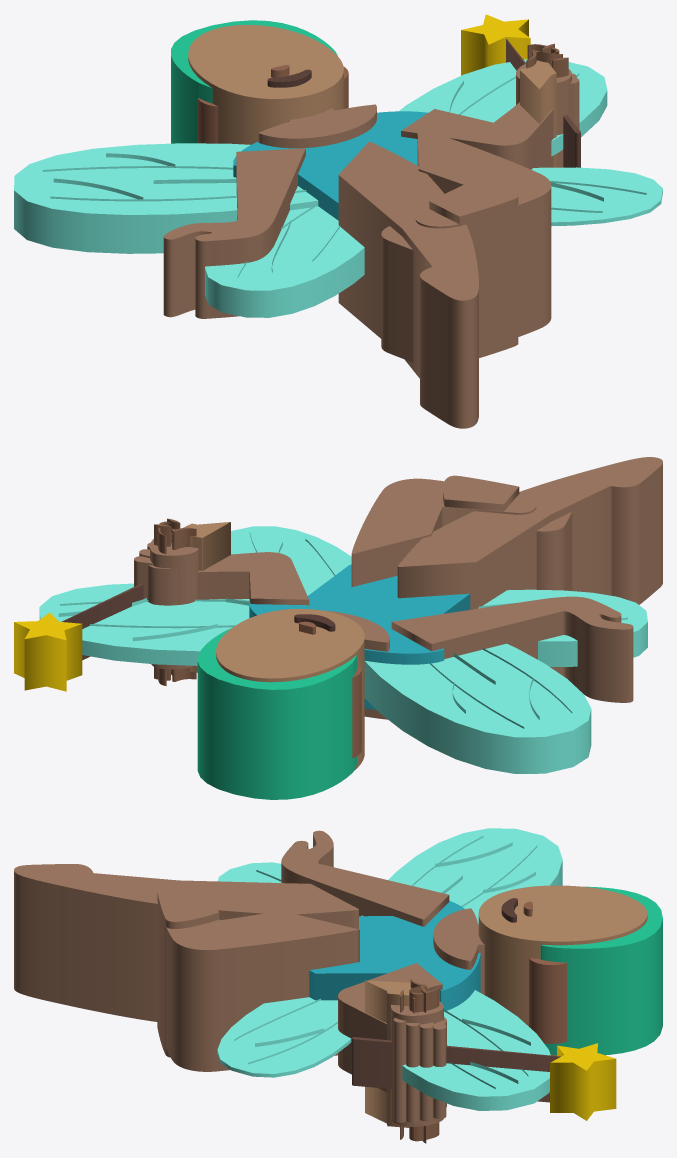
Rendered from emoji_u1f9da_1f3fd_200d_2642.glb.
3 views of the same model, one above another, from view 1: azimuth 30°, elevation 25°; view 2: azimuth 150°, elevation 25°; view 3: azimuth 270°, elevation 25° (orthographic). The views are drawn at different scales.
Visible parts, largest first — view 1: emoji_u1f9da_1f3fd_200d_2642; view 2: emoji_u1f9da_1f3fd_200d_2642; view 3: emoji_u1f9da_1f3fd_200d_2642.
Part boxes in pixels (bbox=[...]): emoji_u1f9da_1f3fd_200d_2642: bbox=[14, 14, 662, 428]; emoji_u1f9da_1f3fd_200d_2642: bbox=[14, 457, 662, 799]; emoji_u1f9da_1f3fd_200d_2642: bbox=[14, 828, 662, 1143].
Size of the model in its own units: 0.0309 by 0.0084 by 0.0328.
